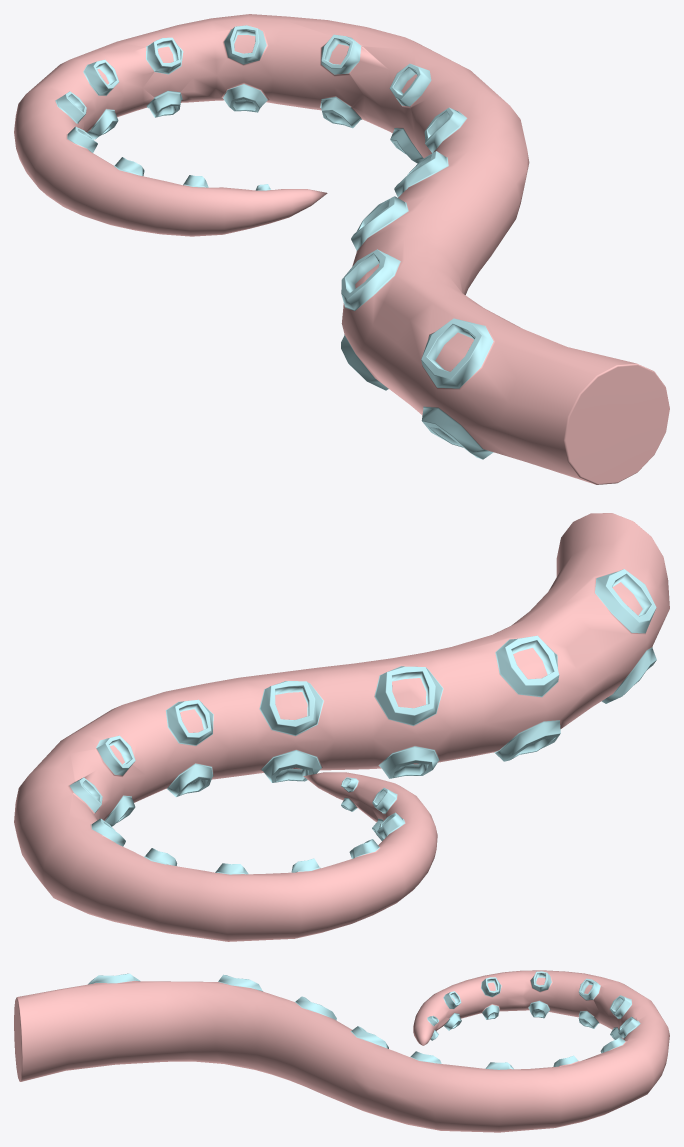
Rendered from Tentacle.fbx.
The picture shows the model from 3 angles, top to bottom: view 1: azimuth 30°, elevation 25°; view 2: azimuth 150°, elevation 25°; view 3: azimuth 270°, elevation 25°; orthographic projection. The views are drawn at different scales.
Parts seen in each view (by area): view 1: tentychan; view 2: tentychan; view 3: tentychan.
Part boxes in pixels (x1=…): tentychan: x1=14, y1=14, x2=669, y2=484; tentychan: x1=14, y1=513, x2=669, y2=941; tentychan: x1=14, y1=970, x2=669, y2=1132.
Size of the model in its own units: 51.65 by 15.1 by 109.
